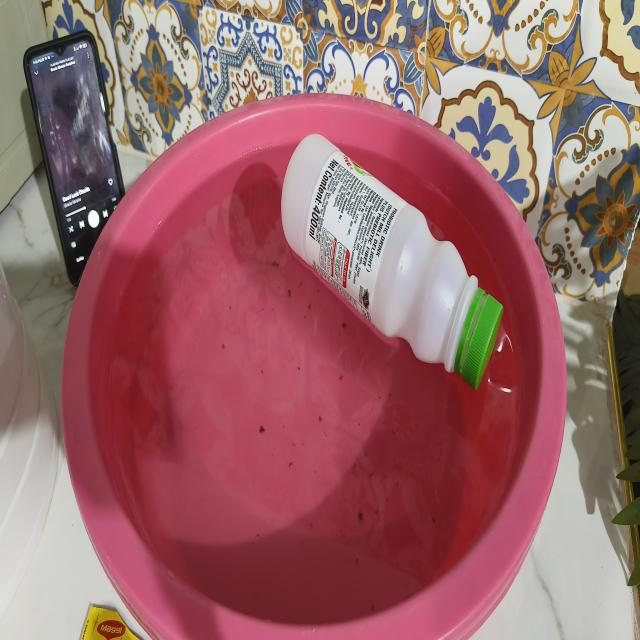Plastic Bottle: (282, 134, 502, 389)
